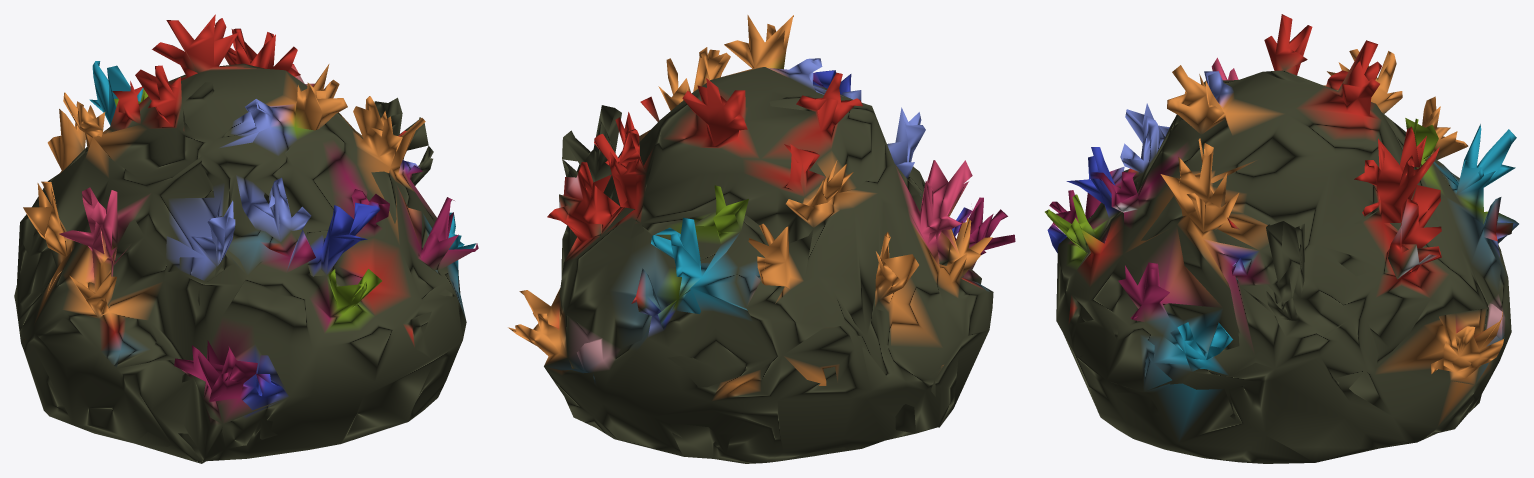
File: gen3d-coral-reef-rock-lod0.glb
3 views of the same model, side by side, from view 1: azimuth 30°, elevation 25°; view 2: azimuth 150°, elevation 25°; view 3: azimuth 270°, elevation 25° (orthographic).
Parts seen in each view (by area): view 1: part_0; view 2: part_0; view 3: part_0.
Boxes of the visible parts, left/top/right/bottom form: part_0: left=14, top=14, right=478, bottom=463; part_0: left=508, top=15, right=1015, bottom=463; part_0: left=1045, top=14, right=1518, bottom=463.
Size of the model in its own units: 1.28 by 0.9953 by 1.31.
